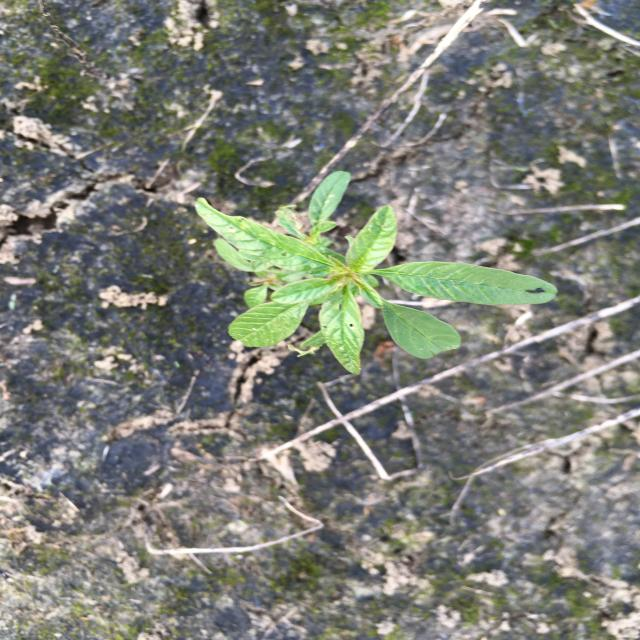Waterhemp: (192, 170, 560, 376)
